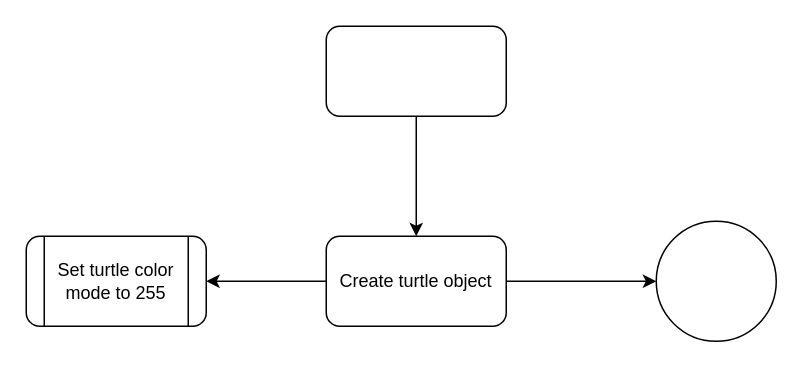
Image size: 803x368. Some labels were removed from this diagram. Each missing label, with the centre of its shape:
"Import from turtle, Turtle, Screen Import random" belongs at point 415,70.
"Name turtle" belongs at point 715,280.
